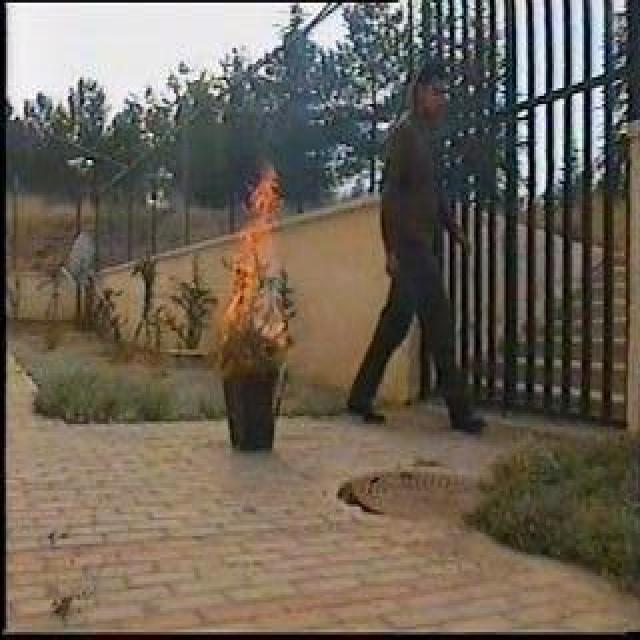Fire: (232, 171, 272, 325)
